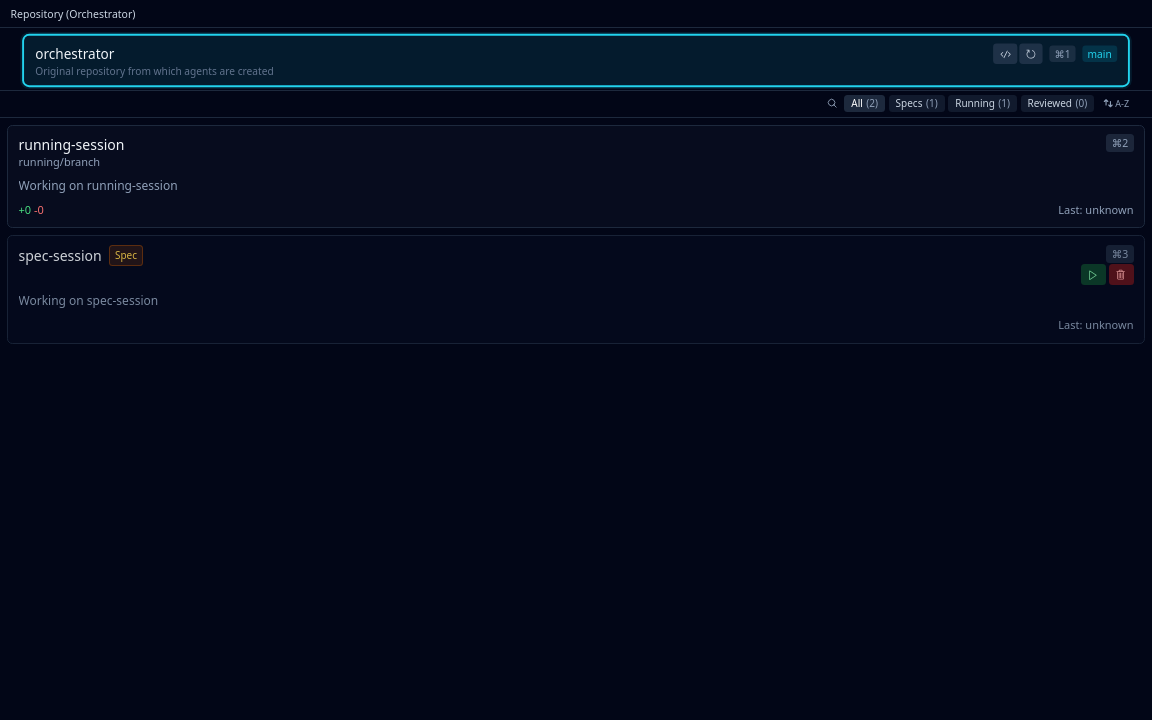
Test case: Sidebar keyboard navigation basic › prevents converting spec sessions to specs with Cmd+S
The width and height of the screenshot is (1152, 720).
Expected: the text "spec-session" is shown, x1=18 y1=246 x2=102 y2=265
Expected: the text "running-session" is shown, x1=18 y1=135 x2=124 y2=154
Click the button "spec-session" at x=60, y=256, box x1=7 y1=235 x2=1145 y2=344
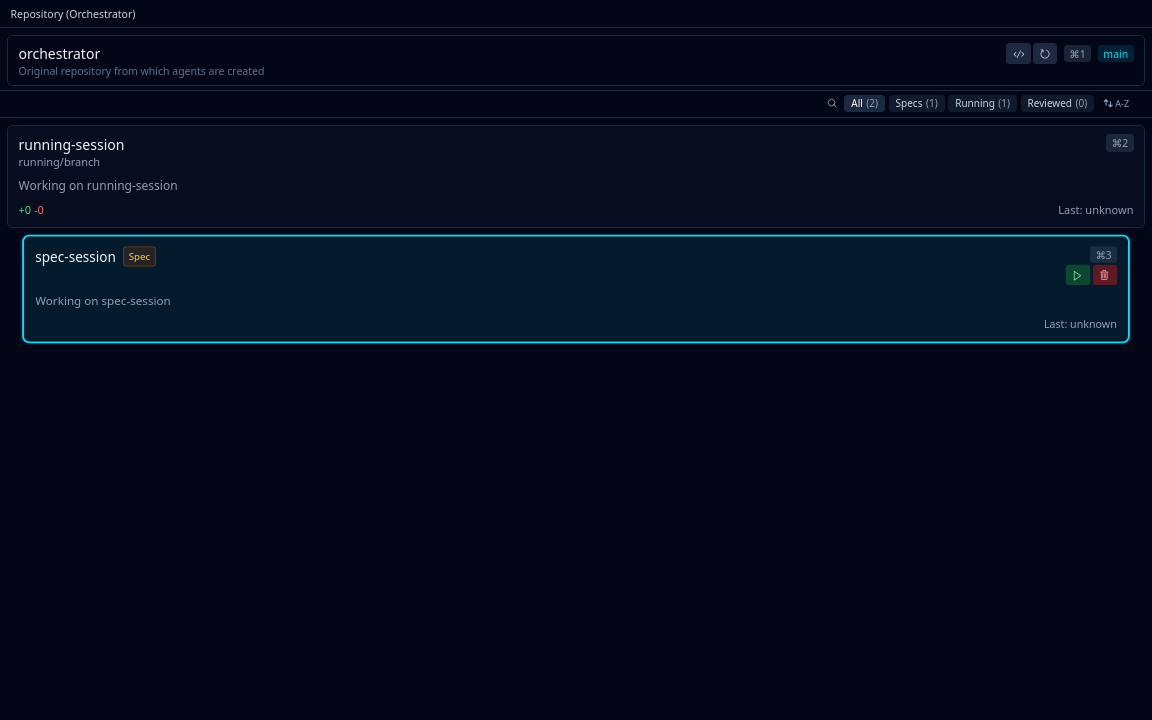
Expected: the text "Convert to Spec" is not shown
Expected: the button "spec-session" has class "session-ring", x1=24 y1=237 x2=1128 y2=342
Click the button "running-session" at x=71, y=145, box x1=7 y1=124 x2=1145 y2=228
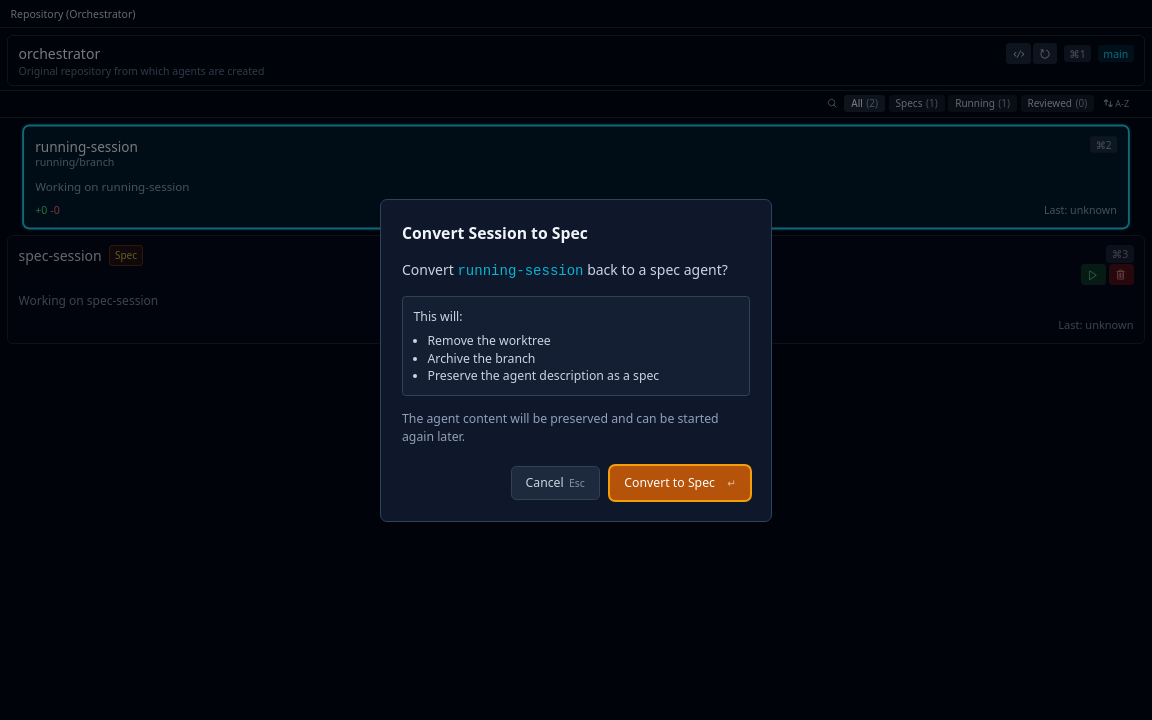
Expected: the text "Convert to Spec" is shown, x1=624 y1=474 x2=715 y2=492
